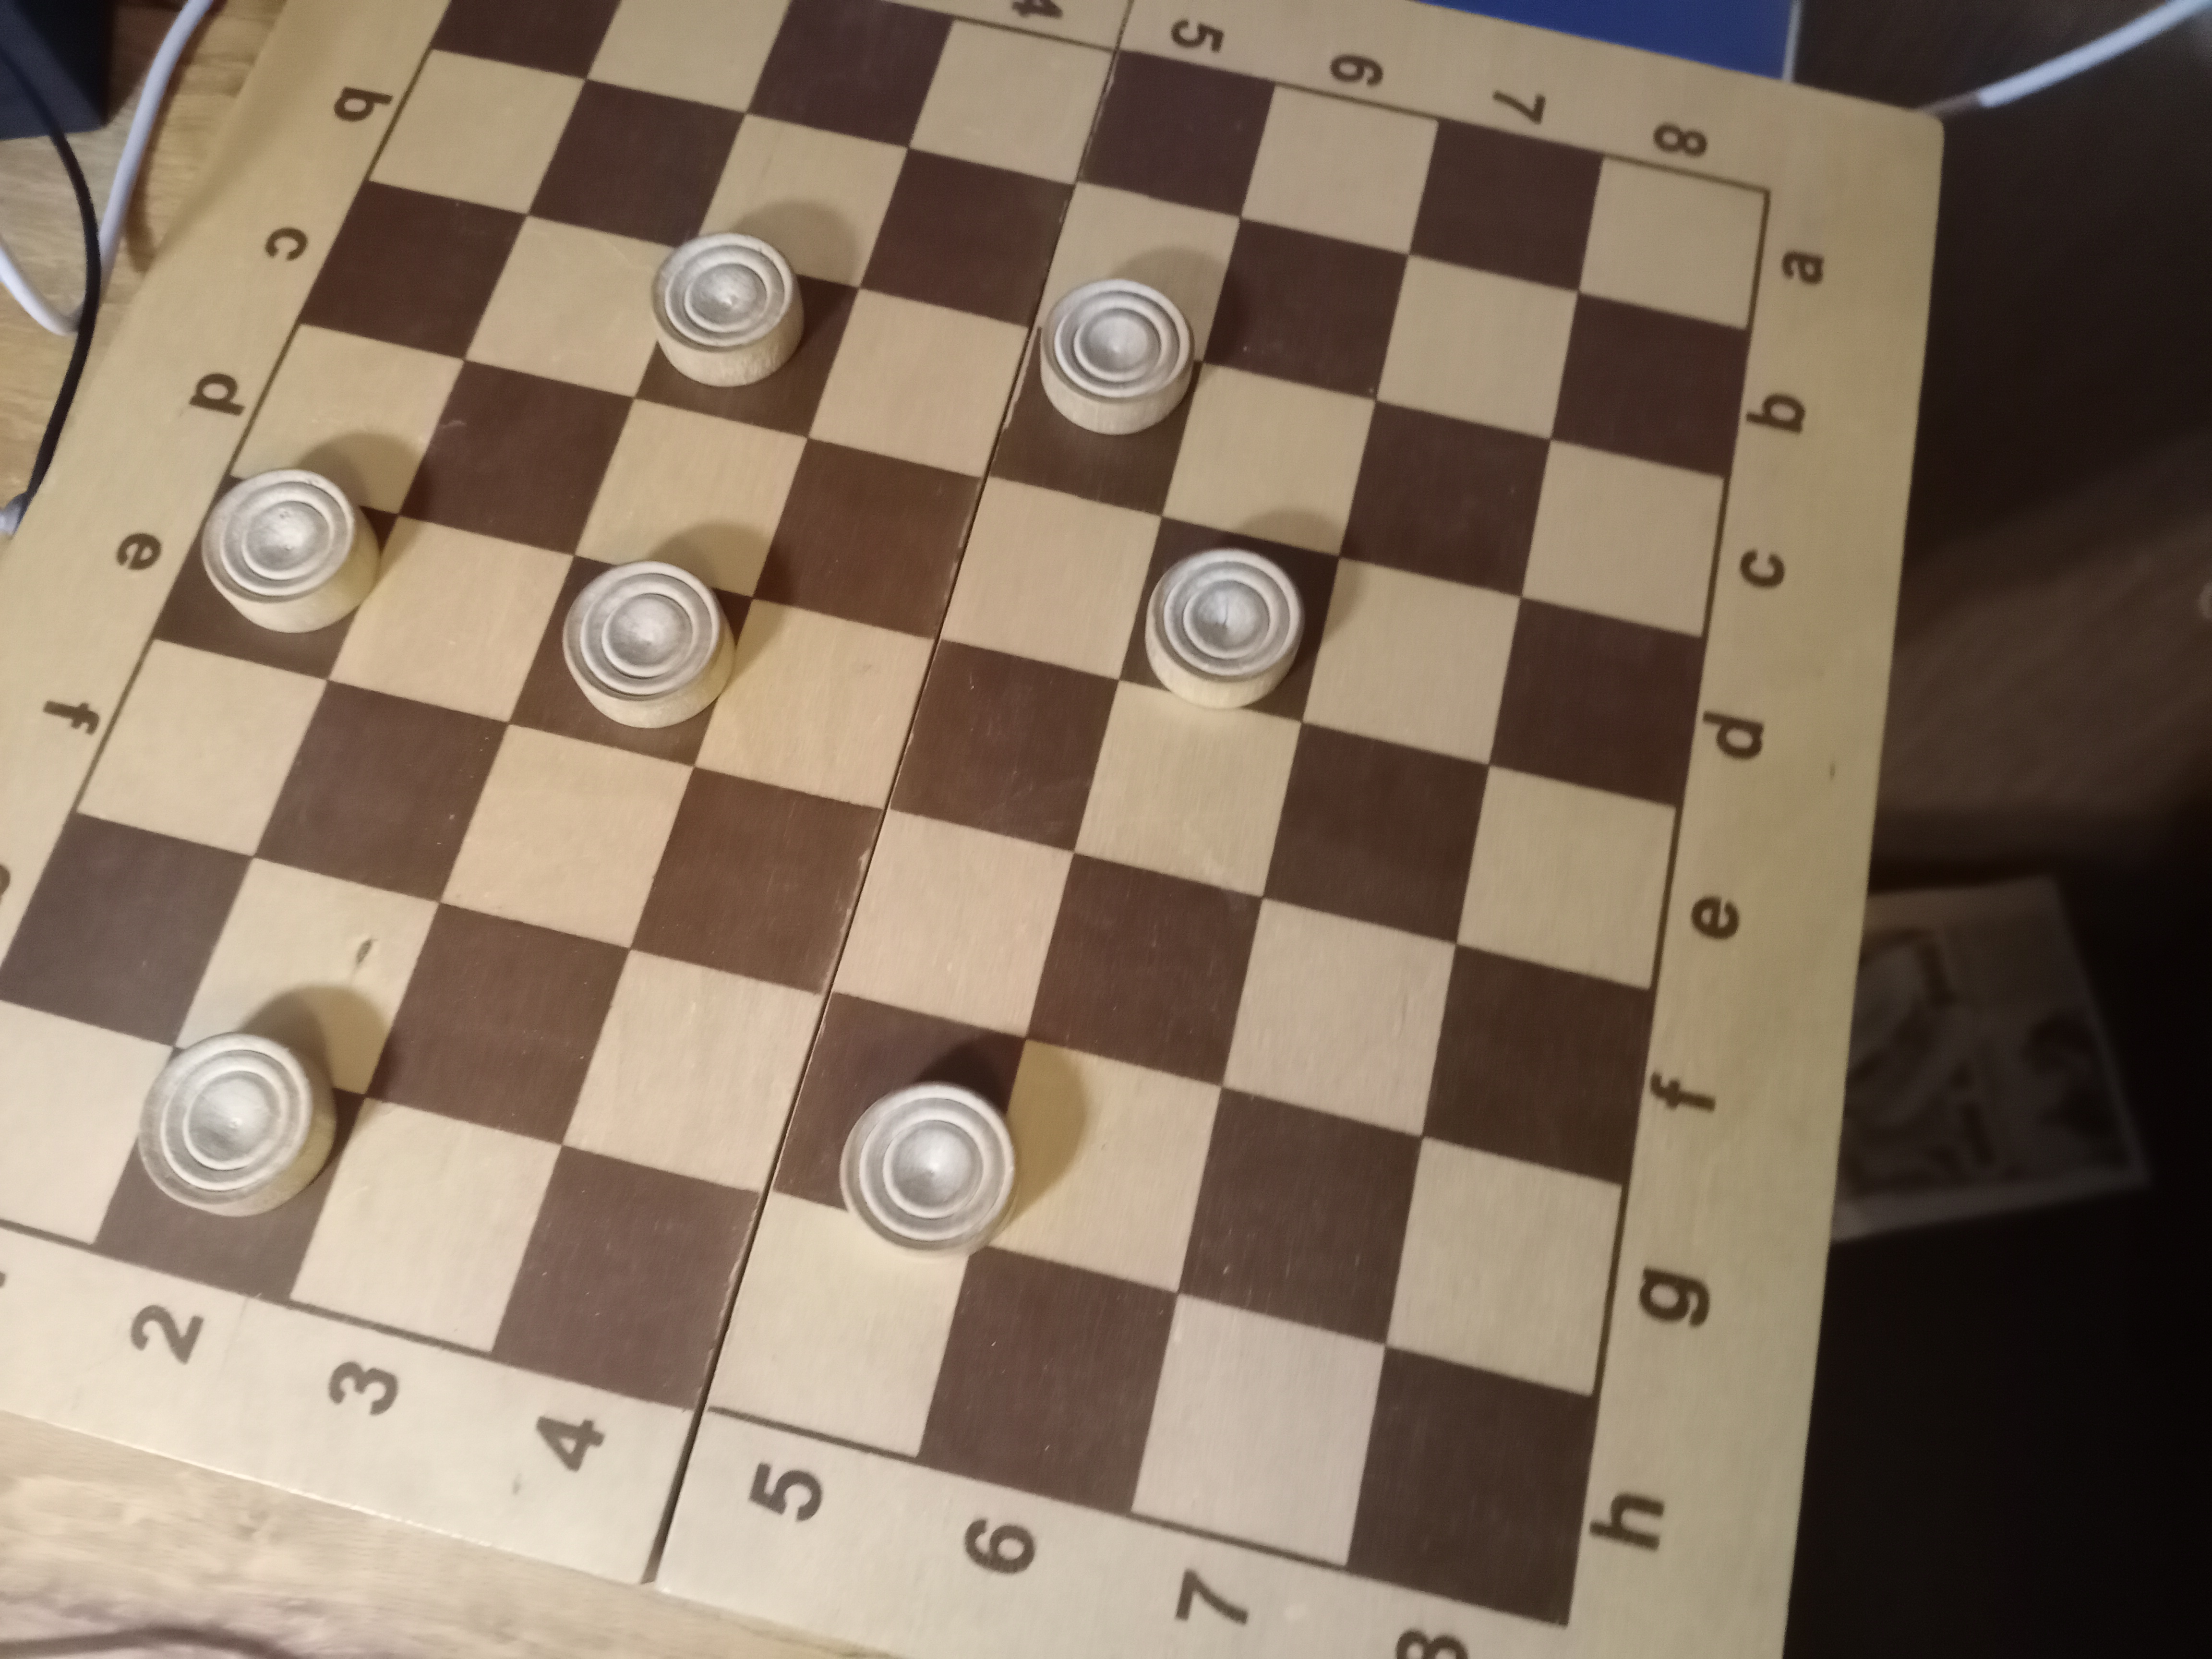White_Draught: (96, 1032, 364, 1300), (770, 992, 1024, 1258), (507, 556, 752, 767), (158, 467, 399, 681), (989, 279, 1204, 518), (636, 232, 859, 437), (1118, 516, 1339, 721)
